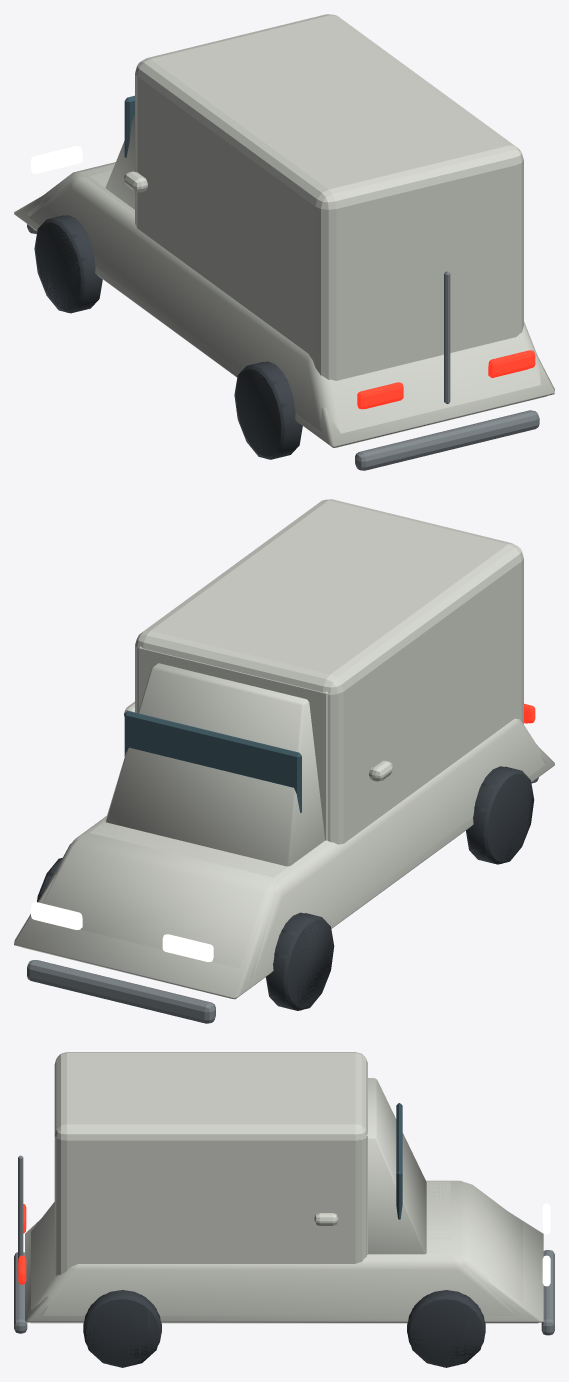
Rendered from delivery_van.glb.
The picture shows the model from 3 angles, top to bottom: view 1: azimuth 30°, elevation 25°; view 2: azimuth 150°, elevation 25°; view 3: azimuth 270°, elevation 25°; orthographic projection. The views are drawn at different scales.
Parts seen in each view (by area): view 1: LOD0_delivery_van_CargoVolume, LOD0_delivery_van_LowerBody, LOD2_delivery_van_Body, LOD0_delivery_van_Wheel_RL, LOD0_delivery_van_Wheel_FL, LOD0_delivery_van_RearBumper, LOD1_delivery_van_Wheel_FL, LOD1_delivery_van_Body, LOD2_delivery_van_Upper, LOD1_delivery_van_Wheel_RL, LOD0_delivery_van_Headlamp_L, LOD0_delivery_van_CargoDoorSplit (+2 smaller); view 2: LOD0_delivery_van_CargoVolume, LOD2_delivery_van_Upper, LOD1_delivery_van_Body, LOD0_delivery_van_LowerBody, LOD2_delivery_van_Body, LOD1_delivery_van_GlassBand, LOD0_delivery_van_Wheel_RL, LOD0_delivery_van_FrontBumper, LOD1_delivery_van_Upper, LOD0_delivery_van_Wheel_FL, LOD1_delivery_van_Wheel_FL, LOD1_delivery_van_Wheel_RL (+2 smaller); view 3: LOD0_delivery_van_CargoVolume, LOD0_delivery_van_LowerBody, LOD1_delivery_van_Body, LOD2_delivery_van_Upper, LOD2_delivery_van_Body, LOD0_delivery_van_Wheel_FR, LOD0_delivery_van_Wheel_RR, LOD1_delivery_van_Wheel_RR, LOD1_delivery_van_Wheel_FR, LOD0_delivery_van_FrontBumper, LOD1_delivery_van_GlassBand, LOD0_delivery_van_RearBumper (+1 smaller).
Part boxes in pixels (<box>): LOD0_delivery_van_CargoVolume: <box>135,14,523,380</box>; LOD0_delivery_van_LowerBody: <box>29,171,541,445</box>; LOD2_delivery_van_Body: <box>14,188,554,447</box>; LOD0_delivery_van_Wheel_RL: <box>236,361,300,459</box>; LOD0_delivery_van_Wheel_FL: <box>36,215,100,312</box>; LOD0_delivery_van_RearBumper: <box>355,410,539,470</box>; LOD1_delivery_van_Wheel_FL: <box>34,215,102,313</box>; LOD1_delivery_van_Body: <box>27,162,546,447</box>; LOD2_delivery_van_Upper: <box>105,115,134,209</box>; LOD1_delivery_van_Wheel_RL: <box>234,362,302,459</box>; LOD0_delivery_van_Headlamp_L: <box>31,146,82,173</box>; LOD0_delivery_van_CargoDoorSplit: <box>444,271,450,403</box>; LOD0_delivery_van_CargoVolume: <box>135,499,523,844</box>; LOD2_delivery_van_Upper: <box>105,663,325,866</box>; LOD1_delivery_van_Body: <box>22,755,545,998</box>; LOD0_delivery_van_LowerBody: <box>72,718,544,978</box>; LOD2_delivery_van_Body: <box>14,744,554,999</box>; LOD1_delivery_van_GlassBand: <box>124,711,301,812</box>; LOD0_delivery_van_Wheel_RL: <box>467,766,531,863</box>; LOD0_delivery_van_FrontBumper: <box>27,960,215,1023</box>; LOD1_delivery_van_Upper: <box>139,646,340,843</box>; LOD0_delivery_van_Wheel_FL: <box>267,912,332,1010</box>; LOD1_delivery_van_Wheel_FL: <box>266,913,334,1010</box>; LOD1_delivery_van_Wheel_RL: <box>466,766,534,864</box>; LOD0_delivery_van_CargoVolume: <box>54,1052,367,1275</box>; LOD0_delivery_van_LowerBody: <box>31,1181,515,1315</box>; LOD1_delivery_van_Body: <box>30,1180,538,1323</box>; LOD2_delivery_van_Upper: <box>368,1078,426,1254</box>; LOD2_delivery_van_Body: <box>25,1212,543,1322</box>; LOD0_delivery_van_Wheel_FR: <box>407,1290,485,1365</box>; LOD0_delivery_van_Wheel_RR: <box>83,1290,161,1365</box>; LOD1_delivery_van_Wheel_RR: <box>83,1294,161,1367</box>; LOD1_delivery_van_Wheel_FR: <box>407,1294,485,1367</box>; LOD0_delivery_van_FrontBumper: <box>541,1250,554,1335</box>; LOD1_delivery_van_GlassBand: <box>396,1103,402,1219</box>; LOD0_delivery_van_RearBumper: <box>14,1252,27,1333</box>.
Size of what is drawn, in the model's own units: 2.34 by 2.45 by 5.23.
